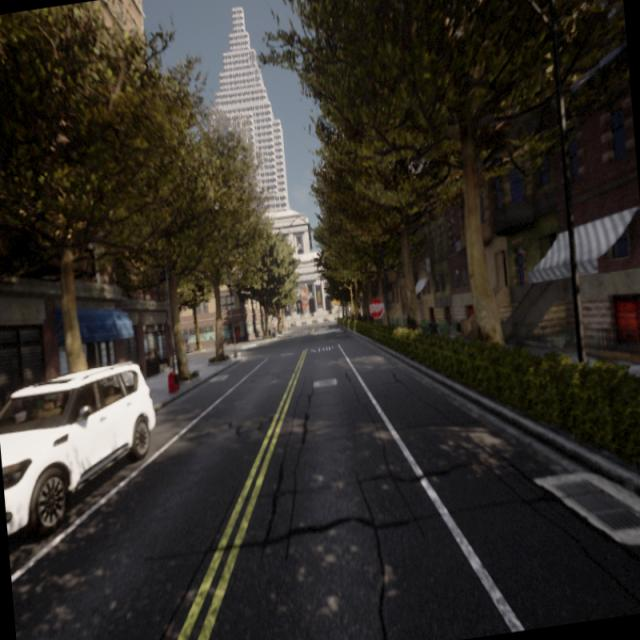stop sign: (366, 294, 386, 321)
